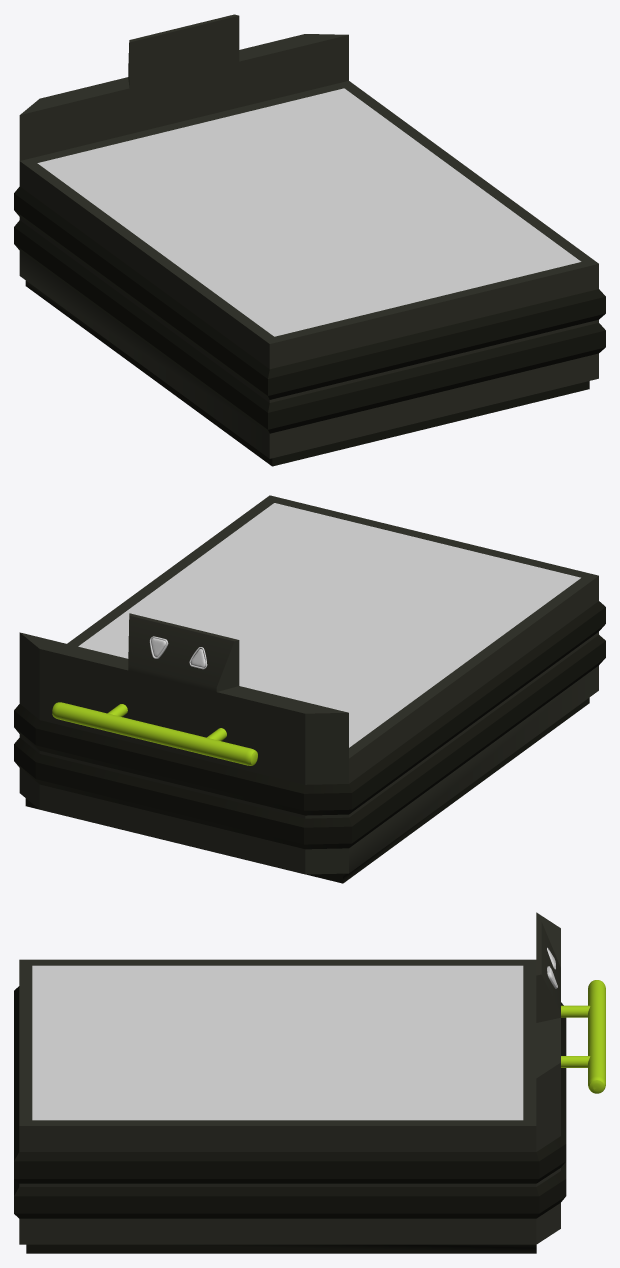
File: Carrito.fbx
3 views of the same model, one above another, from view 1: azimuth 30°, elevation 25°; view 2: azimuth 150°, elevation 25°; view 3: azimuth 270°, elevation 25° (orthographic). The views are drawn at different scales.
Parts seen in each view (by area): view 1: Box011, Carrito; view 2: Box011, Carrito; view 3: Box011, Carrito.
Part boxes in pixels (x1=…): Box011: x1=14, y1=14, x2=605, y2=466; Carrito: x1=37, y1=88, x2=581, y2=336; Box011: x1=14, y1=495, x2=605, y2=883; Carrito: x1=78, y1=503, x2=580, y2=747; Box011: x1=14, y1=912, x2=605, y2=1253; Carrito: x1=32, y1=965, x2=523, y2=1120.
Size of the model in its own units: 1.34 by 0.8296 by 1.97.
